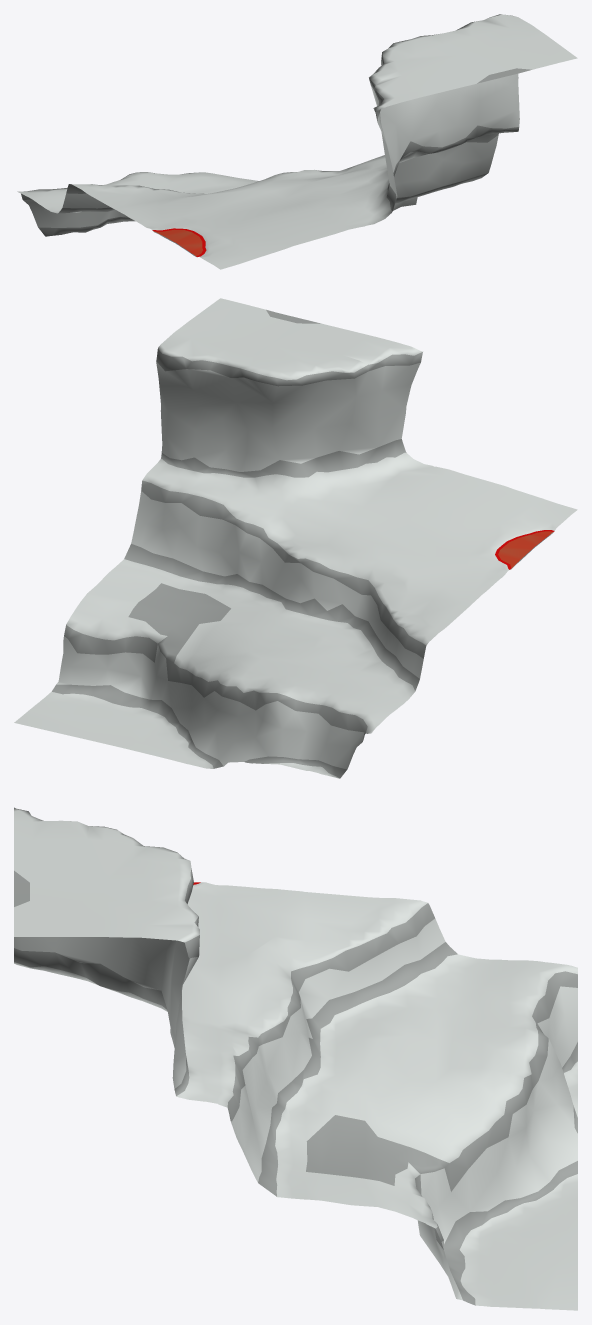
The picture shows the model from 3 angles, top to bottom: view 1: azimuth 30°, elevation 25°; view 2: azimuth 150°, elevation 25°; view 3: azimuth 270°, elevation 25°; orthographic projection. The views are drawn at different scales.
Parts seen in each view (by area): view 1: G:\FFXIV-MapTools\exports\r2f1\bg\ex1\01_roc_r2\fld\r2f1\bgp (×5); view 2: G:\FFXIV-MapTools\exports\r2f1\bg\ex1\01_roc_r2\fld\r2f1\bgp (×6); view 3: G:\FFXIV-MapTools\exports\r2f1\bg\ex1\01_roc_r2\fld\r2f1\bgp (×5).
Boxes of the visible parts, x1=… form: G:\FFXIV-MapTools\exports\r2f1\bg\ex1\01_roc_r2\fld\r2f1\bgp (×5): x1=17, y1=14, x2=577, y2=269; G:\FFXIV-MapTools\exports\r2f1\bg\ex1\01_roc_r2\fld\r2f1\bgp (×6): x1=14, y1=298, x2=577, y2=778; G:\FFXIV-MapTools\exports\r2f1\bg\ex1\01_roc_r2\fld\r2f1\bgp (×5): x1=14, y1=807, x2=577, y2=1310.
Bounding box in the file's own units: 128 × 93.56 × 128.
